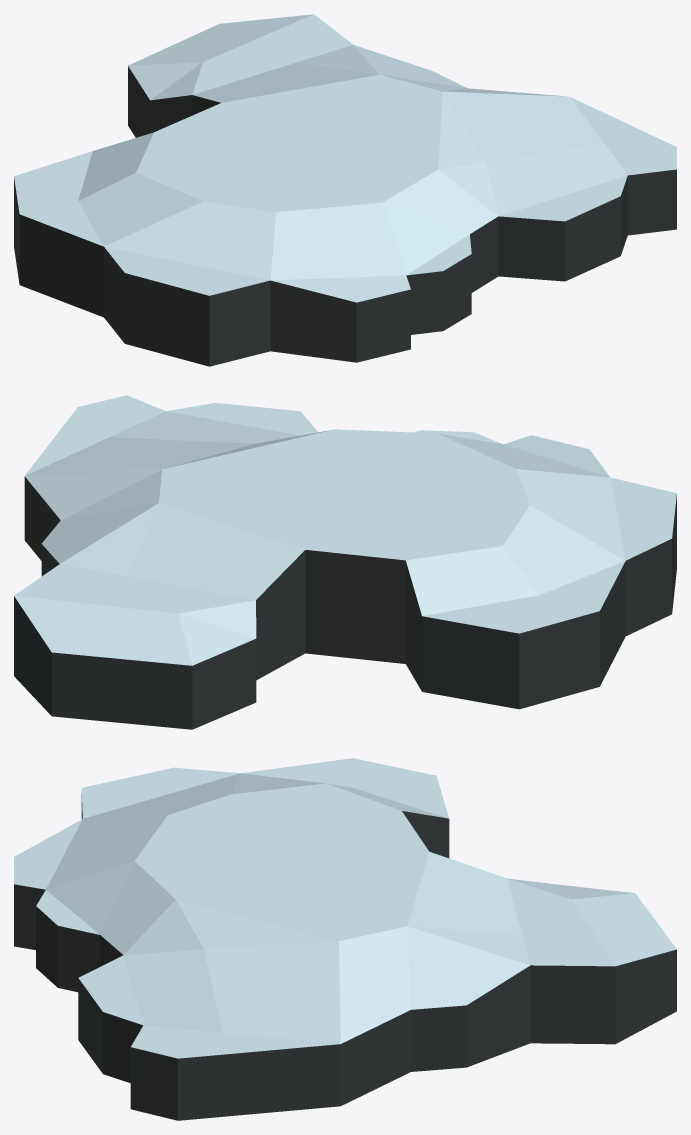
Rendered from SM_Env_Generic_Cliffs_01_Snow.fbx.
3 renders of one model, top to bottom at view 1: azimuth 30°, elevation 25°; view 2: azimuth 150°, elevation 25°; view 3: azimuth 270°, elevation 25°, orthographic. The views are drawn at different scales.
Visible parts, largest first — view 1: SM_Env_Generic_Cliffs_01_Snow; view 2: SM_Env_Generic_Cliffs_01_Snow; view 3: SM_Env_Generic_Cliffs_01_Snow.
Part boxes in pixels (left/top/right/bottom): SM_Env_Generic_Cliffs_01_Snow: left=14, top=14, right=676, bottom=366; SM_Env_Generic_Cliffs_01_Snow: left=14, top=395, right=676, bottom=729; SM_Env_Generic_Cliffs_01_Snow: left=14, top=758, right=676, bottom=1120.
Size of the model in its own units: 278 by 45.29 by 269.
1 material, 1 textured.
